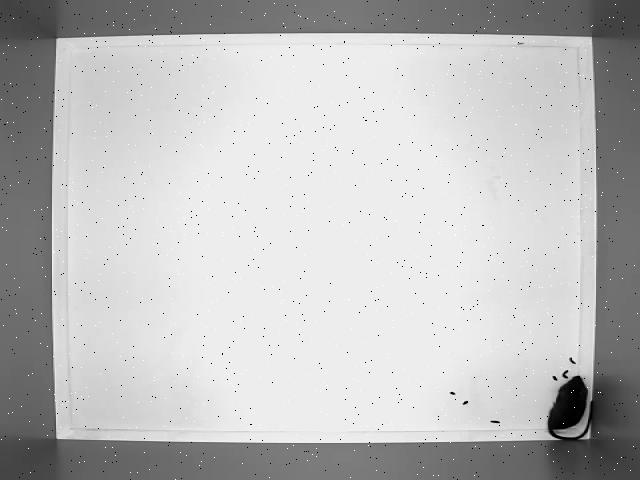Tikus: (543, 372, 607, 450)
